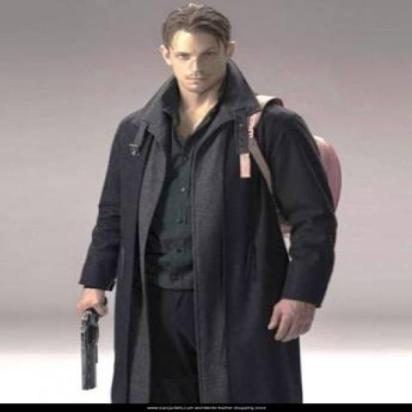Gun: (74, 292, 111, 394)
